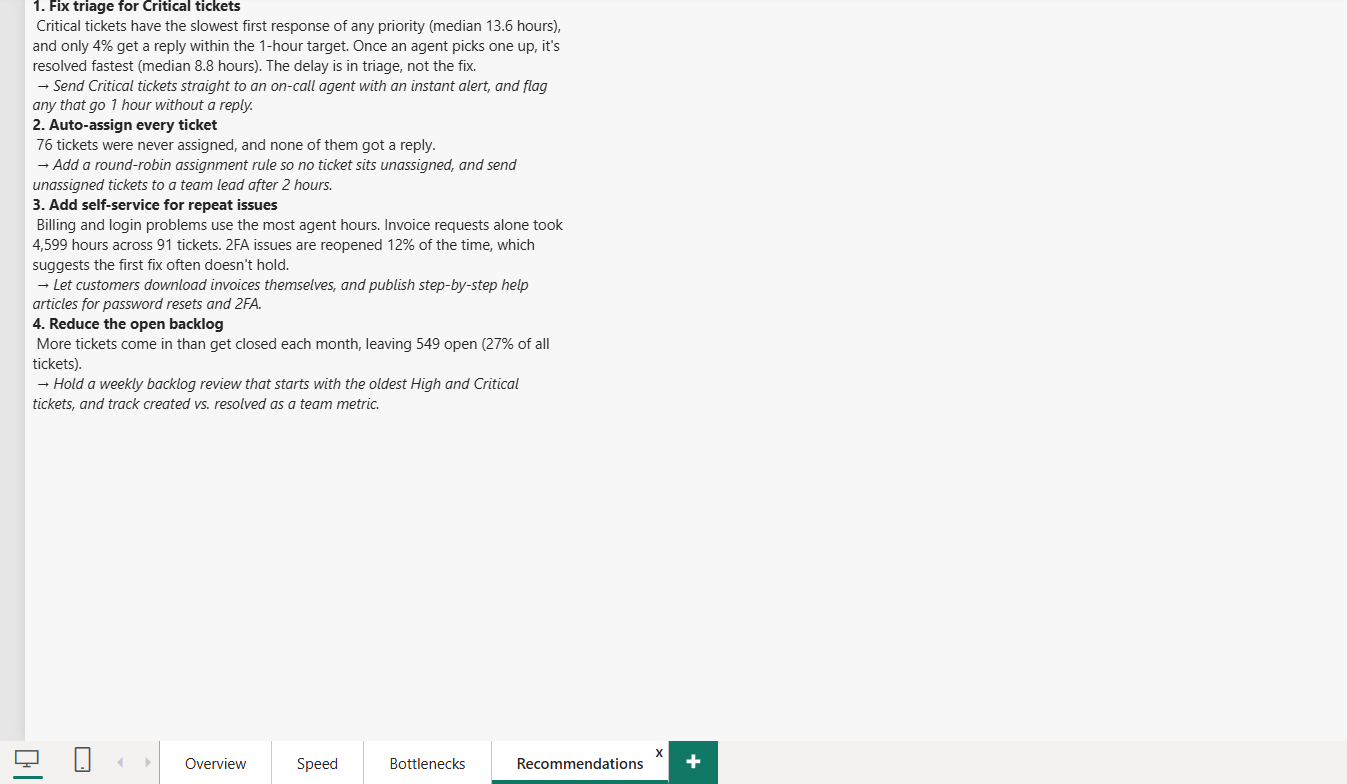

This screenshot's page, from the dashboard's own definition file:
{"tool":"powerbi","page":{"name":"Recommendations","canvas":[1920,1080],"ordinal":3},"visuals":[{"type":"textbox","box":[10.9,0,770.9,671.4],"z":0}]}

Visuals, with their boxes on the page's 1920x1080 design canvas (x1, y1, x2, y2). These are canvas units, not pixel positions in the 1347x784 screenshot, which may show the page scaled, cropped or inside an application window:
textbox: region(11, 0, 782, 671)
